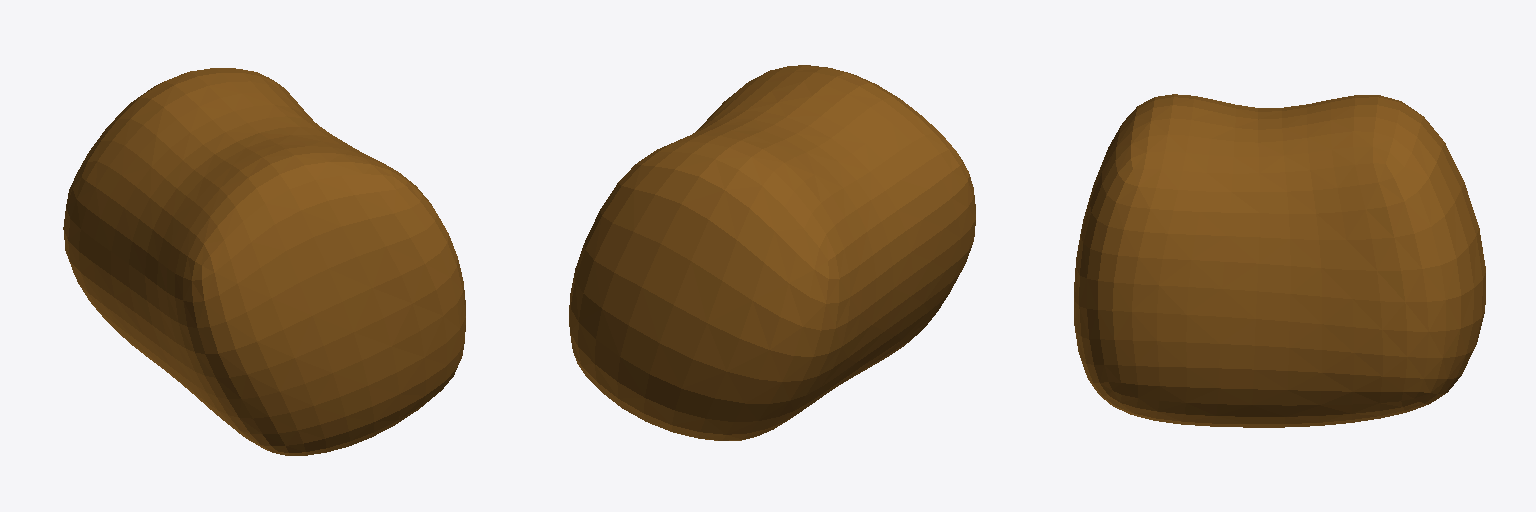
The model's file is fing2_2.obj.
The picture shows the model from 3 angles: view 1: azimuth 30°, elevation 25°; view 2: azimuth 150°, elevation 25°; view 3: azimuth 270°, elevation 25°; orthographic projection.
Parts seen in each view (by area): view 1: f2o2; view 2: f2o2; view 3: f2o2.
Part boxes in pixels (bbox=[...]): f2o2: bbox=[63, 68, 465, 455]; f2o2: bbox=[569, 65, 975, 440]; f2o2: bbox=[1074, 94, 1485, 427].
Size of the model in its own units: 0.6801 by 0.698 by 0.8919.